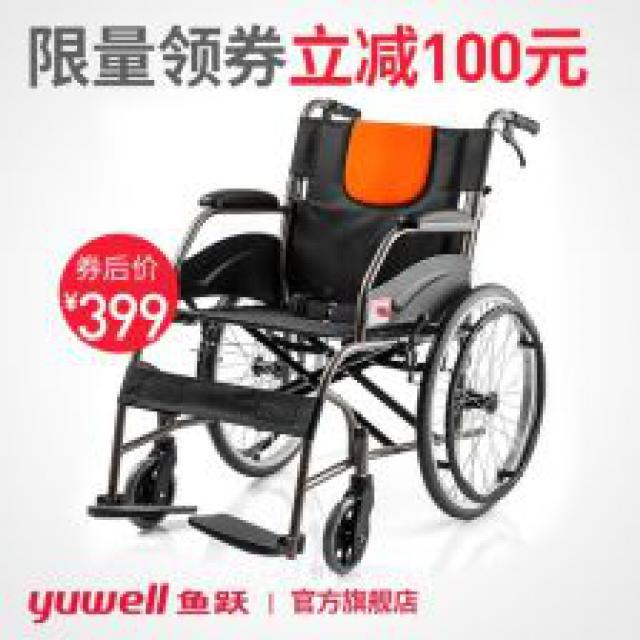wheelchair: (83, 97, 572, 552)
